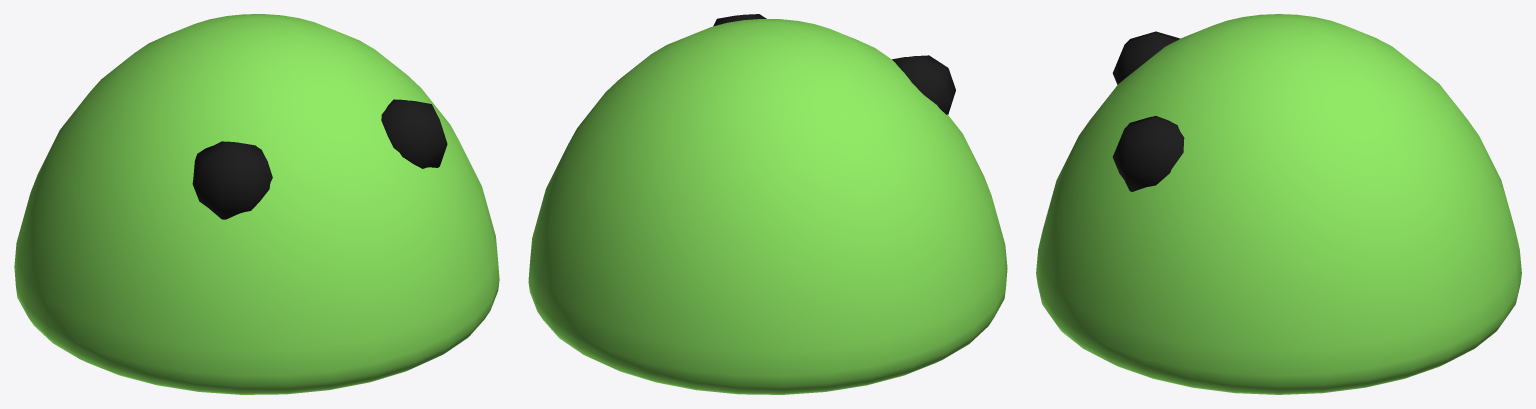
File: SlimeSkin.fbx
3 views of the same model, side by side, from view 1: azimuth 30°, elevation 25°; view 2: azimuth 150°, elevation 25°; view 3: azimuth 270°, elevation 25° (orthographic).
Parts seen in each view (by area): view 1: Slime; view 2: Slime; view 3: Slime.
Boxes of the visible parts, x1,y1,x2,y2 form: Slime: (14, 14, 499, 394); Slime: (528, 14, 1007, 394); Slime: (1036, 14, 1521, 394).
Bounding box in the file's own units: 198 × 121 × 198.
